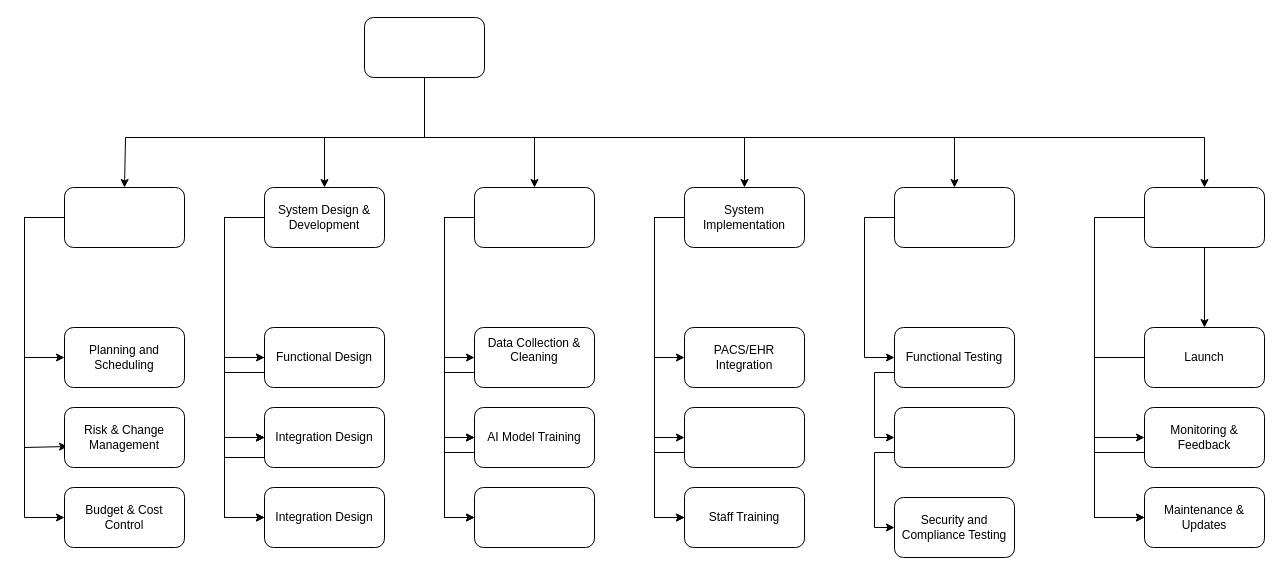
This 1282x575 diagram has some shape labels left out. Here are the shapes that lost their labels. From the top down, the box of each, then its label:
(364, 16, 484, 78): AI-Powered Medical Imaging System
(64, 186, 184, 248): Project Management
(474, 186, 594, 248): Data & AI Model Preparation
(894, 186, 1014, 248): Testing & Quality Assurance
(1144, 186, 1264, 248): Go-Live & Support
(684, 406, 804, 468): System Deployment
(894, 406, 1014, 468): Performance Testing
(474, 486, 594, 548): Model Validation
